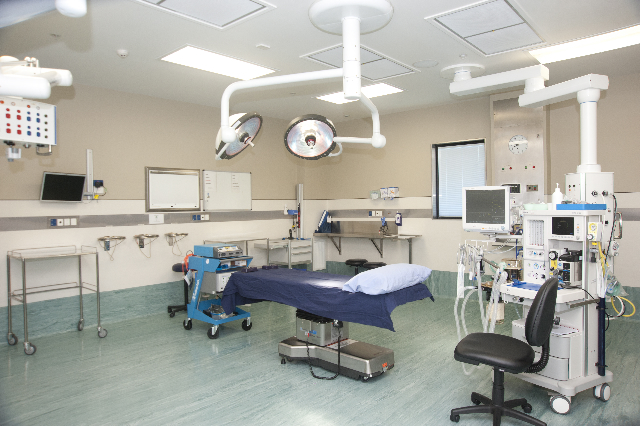bedside_monitor: (461, 186, 511, 233), (40, 171, 102, 202)
chair: (450, 276, 559, 426)
countertop: (313, 229, 424, 240)
electrosurgical_unit: (187, 256, 253, 273), (192, 243, 246, 259)
operating_bed: (222, 263, 435, 382)
surgical_light: (283, 114, 338, 161), (214, 112, 264, 161)
utility_cart: (6, 244, 108, 355), (246, 237, 314, 269)
ventilator: (501, 200, 623, 383)
